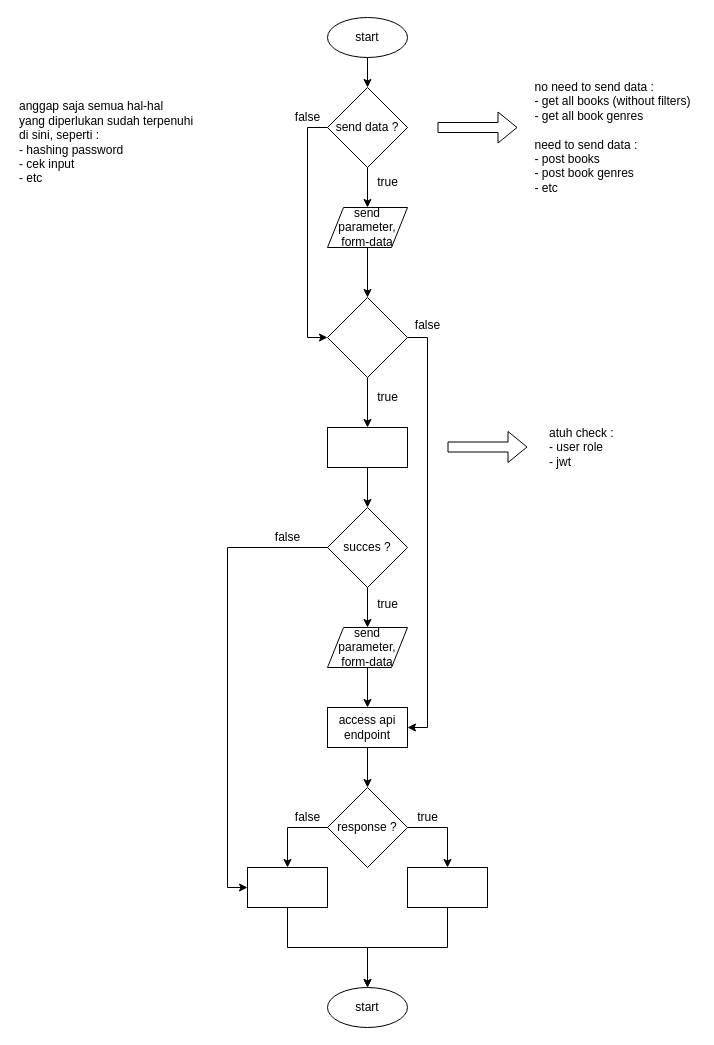
Some shapes in this 714 by 1045 pixel diagram are drawn without their labels. Here are the shapes that lost their labels. From the top down, the box of each, then its label:
(326, 296, 408, 378): need auth ?
(326, 426, 408, 468): auth check
(246, 866, 328, 908): get error response
(406, 866, 488, 908): get success response + data
